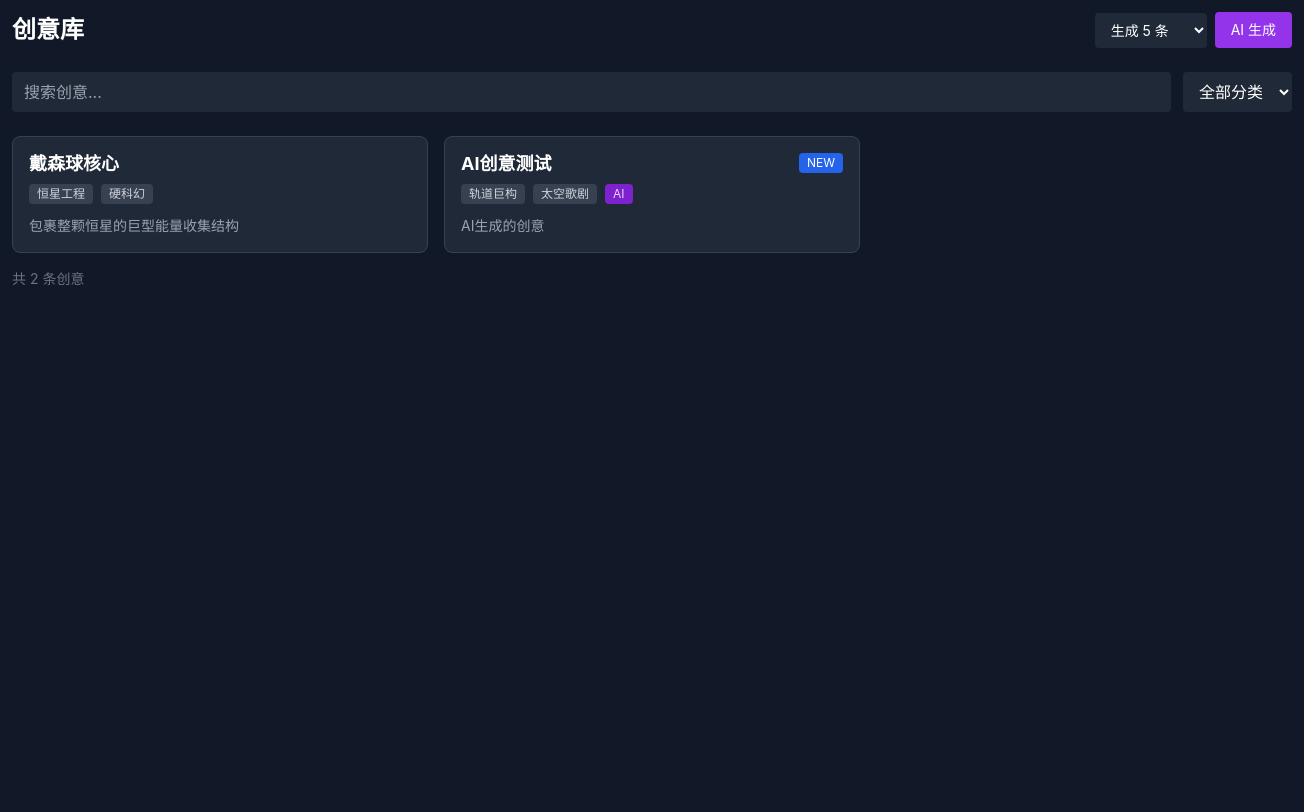
Scenario: P2 - CreationsPage › opens drawer on card click
This screenshot has width=1304, height=812.
What coordinates should you click on to do the following:
click the element with test id "creation-card" showing "戴森球核心 恒星工程 硬科幻 包裹整颗恒星的巨型能量收集结构"
I would click on:
 (220, 194)
Its box is [12,136,428,252].
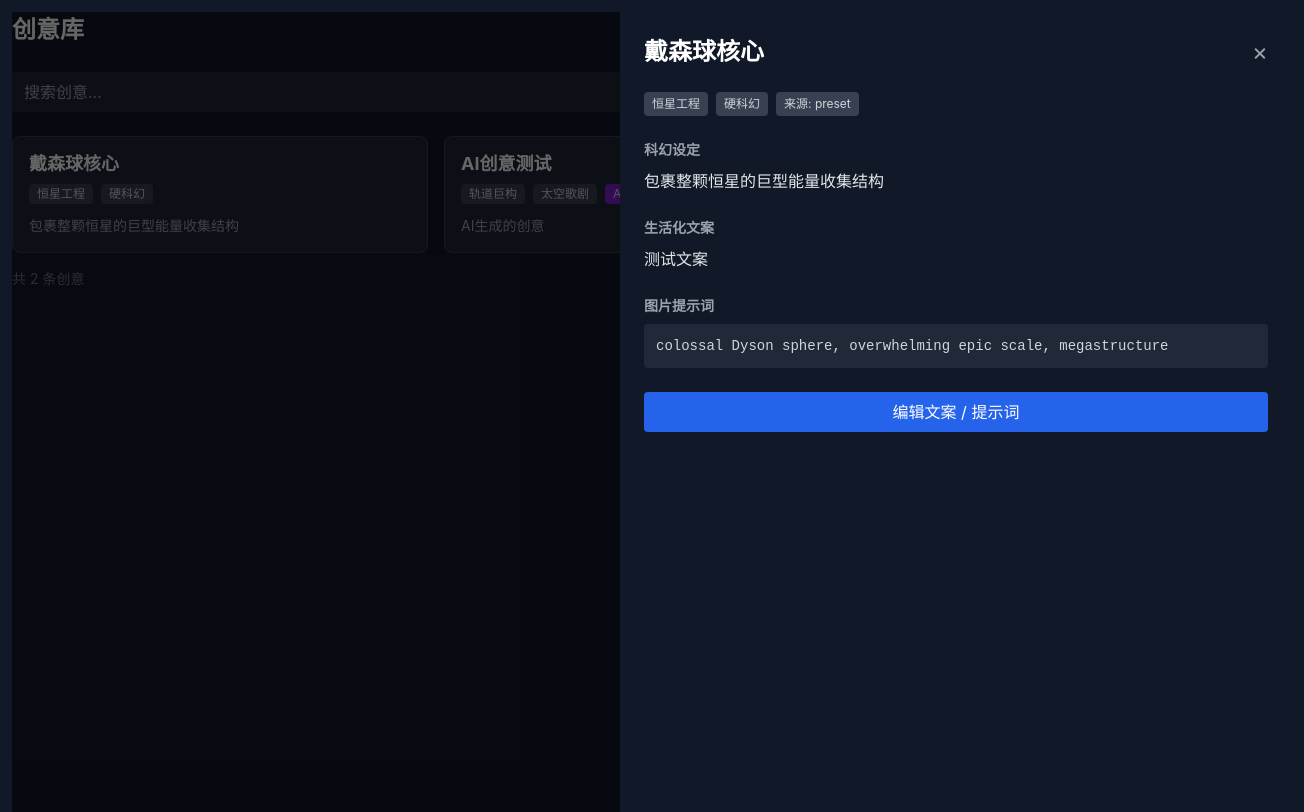
Now the element with test id "creation-drawer" is shown
